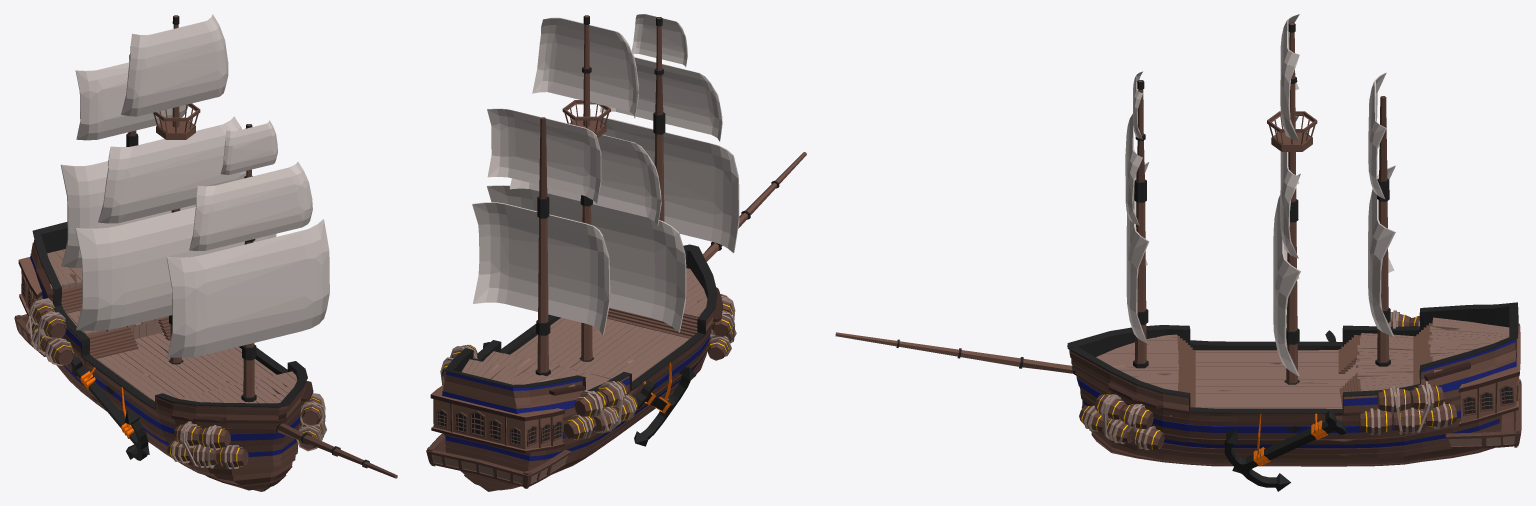
File: EnemyBoatMedium.fbx
3 renders of one model, left to right at view 1: azimuth 30°, elevation 25°; view 2: azimuth 150°, elevation 25°; view 3: azimuth 270°, elevation 25°, orthographic. The views are drawn at different scales.
Parts seen in each view (by area): view 1: Handle, Boat, Barrels, FloorLower, Anchor, Stair.025, FloorFront, Escote, Windows holder, FloorUpper; view 2: Handle, Boat, FloorLower, Windows holder, Barrels, Balcony, Anchor, FloorMiddle, FloorUpper, Stair.025, Escote, FloorFront; view 3: Boat, Handle, FloorLower, Barrels, Anchor, Windows holder, FloorMiddle, Stair.025, FloorFront, FloorUpper, Escote, Balcony.
Part boxes in pixels (left/top/right/bottom): Handle: left=60, top=14, right=329, bottom=401; Boat: left=30, top=222, right=313, bottom=491; Barrels: left=25, top=298, right=326, bottom=469; FloorLower: left=60, top=332, right=276, bottom=401; Anchor: left=71, top=357, right=149, bottom=460; Stair.025: left=61, top=285, right=170, bottom=358; FloorFront: left=179, top=371, right=297, bottom=403; Escote: left=276, top=423, right=397, bottom=478; Windows holder: left=18, top=257, right=42, bottom=316; FloorUpper: left=47, top=249, right=82, bottom=288; Handle: left=472, top=14, right=739, bottom=375; Boat: left=442, top=244, right=722, bottom=491; FloorLower: left=510, top=317, right=689, bottom=381; Windows holder: left=430, top=384, right=564, bottom=453; Barrels: left=440, top=294, right=736, bottom=439; Balcony: left=426, top=433, right=571, bottom=488; Anchor: left=483, top=342, right=695, bottom=446; FloorMiddle: left=483, top=351, right=609, bottom=390; FloorUpper: left=462, top=359, right=575, bottom=387; Stair.025: left=573, top=308, right=697, bottom=379; Escote: left=703, top=152, right=806, bottom=261; FloorFront: left=683, top=268, right=707, bottom=317; Boat: left=1067, top=302, right=1518, bottom=466; Handle: left=1125, top=14, right=1395, bottom=384; FloorLower: left=1170, top=350, right=1392, bottom=416; Barrels: left=1079, top=310, right=1457, bottom=450; Anchor: left=1224, top=330, right=1346, bottom=491; Windows holder: left=1458, top=323, right=1520, bottom=426; FloorMiddle: left=1356, top=333, right=1415, bottom=391; Stair.025: left=1177, top=323, right=1432, bottom=407; FloorFront: left=1096, top=334, right=1178, bottom=390; FloorUpper: left=1428, top=317, right=1509, bottom=372; Escote: left=835, top=332, right=1075, bottom=375; Balcony: left=1445, top=379, right=1521, bottom=449.
Size of the model in its own units: 1125 by 2367 by 3335.
